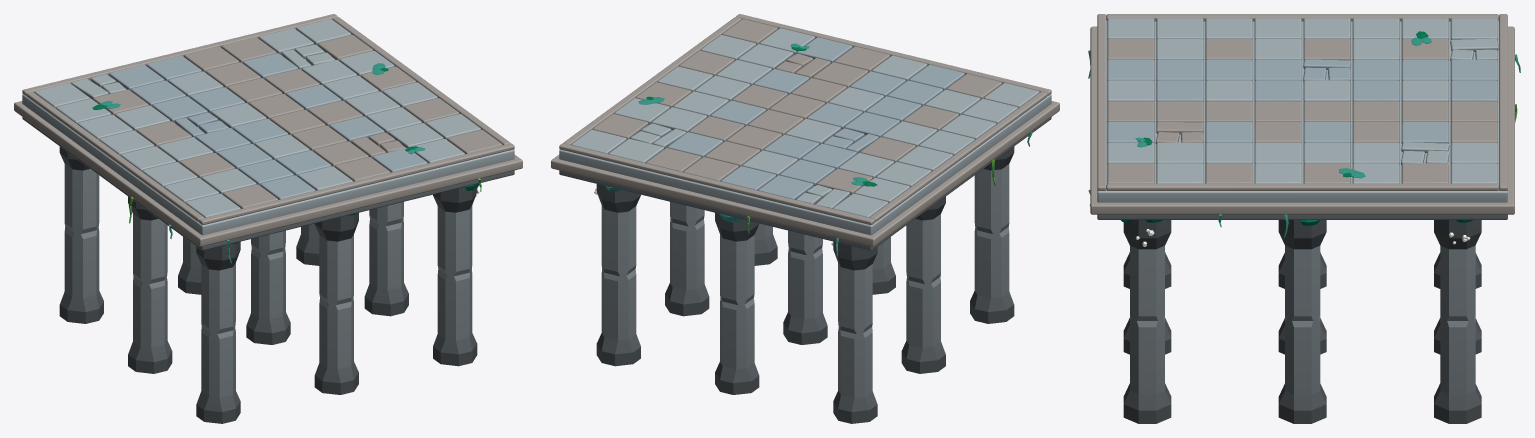
Rendered from citadel_platform.glb.
3 views of the same model, side by side, from view 1: azimuth 30°, elevation 25°; view 2: azimuth 150°, elevation 25°; view 3: azimuth 270°, elevation 25° (orthographic). The views are drawn at different scales.
Visible parts, largest first — view 1: citadel_platform; view 2: citadel_platform; view 3: citadel_platform.
Boxes of the visible parts, x1,y1,x2,y2 form: citadel_platform: [14, 14, 522, 423]; citadel_platform: [551, 14, 1059, 423]; citadel_platform: [1088, 14, 1520, 423].
Size of the model in its own units: 9.44 by 6.01 by 9.48.
Materials: 2 (2 with a texture image).
